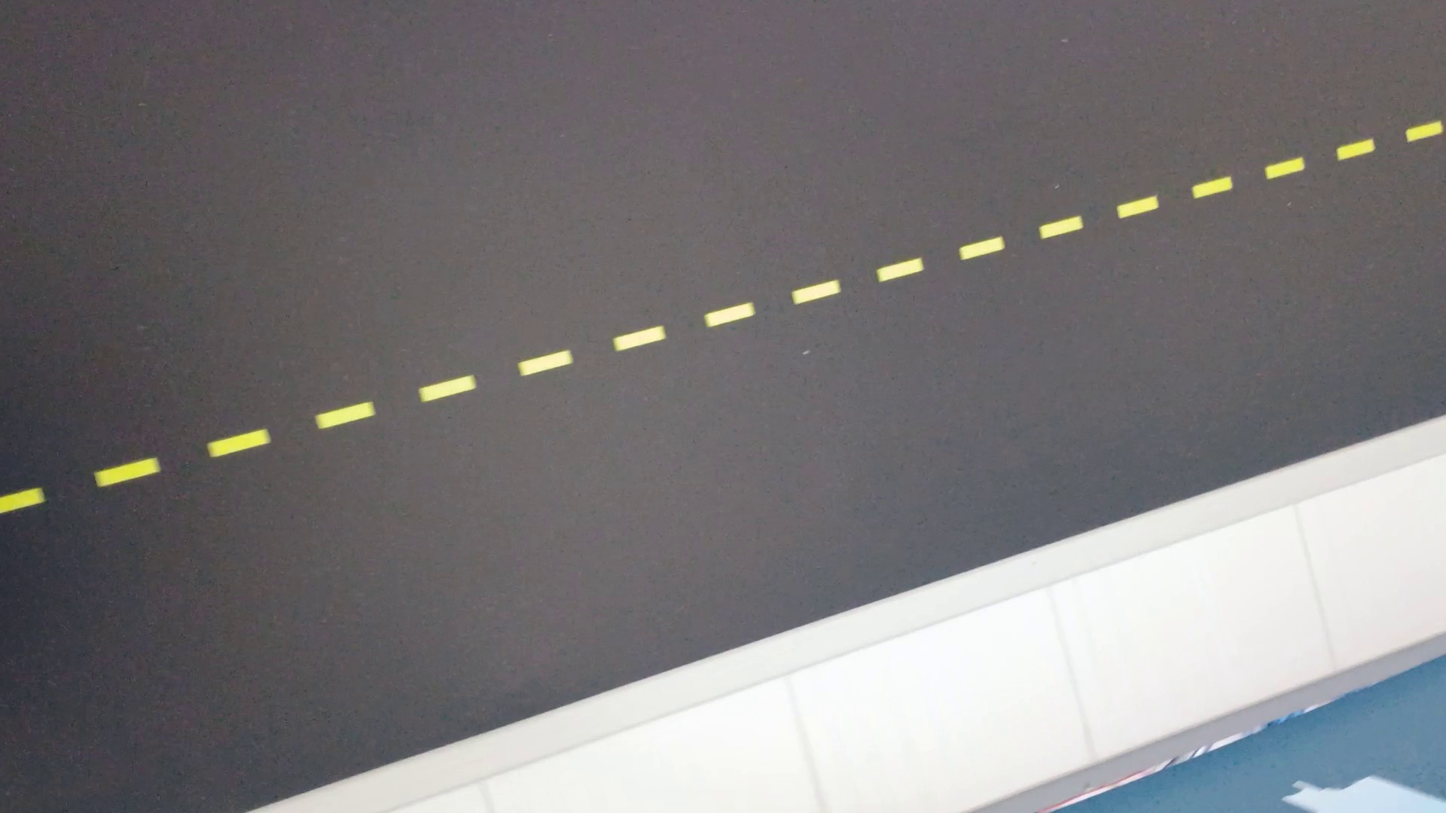Dashed: (207, 428, 270, 457), (96, 458, 159, 486), (316, 402, 374, 428), (419, 375, 475, 401), (519, 350, 572, 375), (615, 325, 665, 350), (705, 303, 754, 327), (792, 280, 840, 303), (0, 488, 44, 513), (877, 258, 923, 281), (959, 236, 1004, 259), (1039, 215, 1082, 238), (1118, 196, 1158, 218), (1192, 176, 1232, 198), (1265, 157, 1304, 178), (1407, 120, 1442, 142), (1338, 139, 1374, 160)
Street: (0, 0, 1445, 812)
